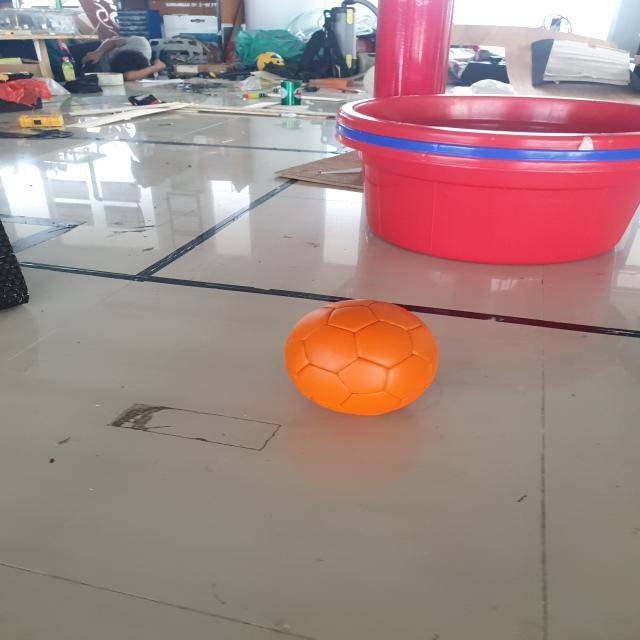bola: (273, 294, 450, 421)
